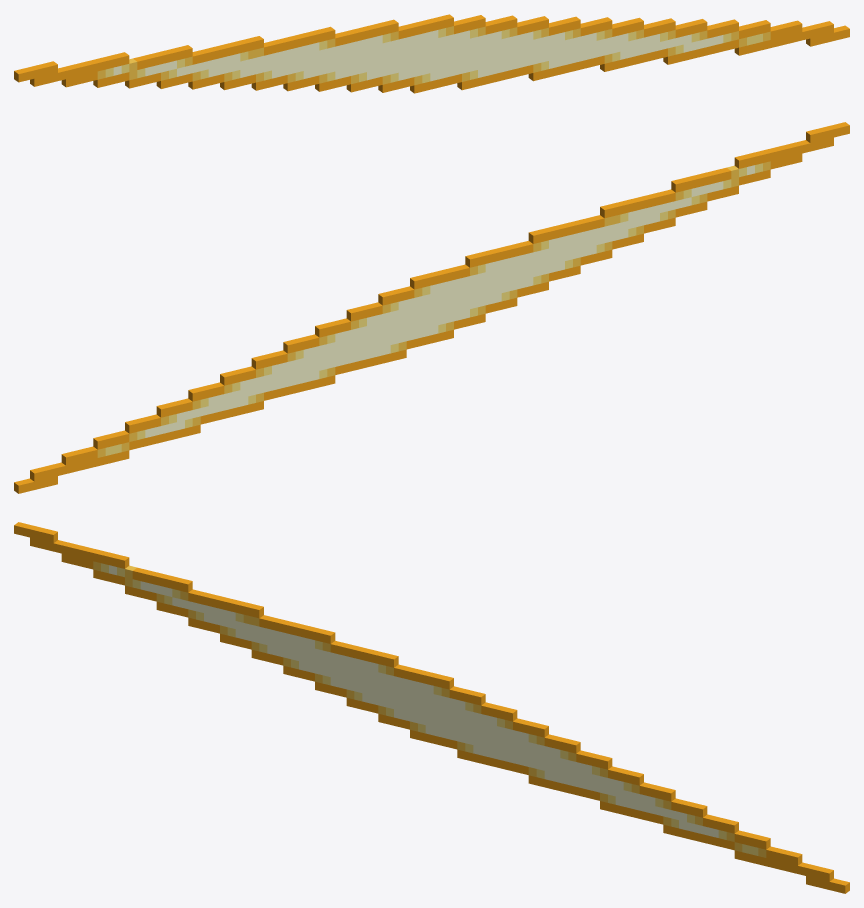
The model's file is Fight_007_2_05_fx.obj.
3 views of the same model, one above another, from view 1: azimuth 30°, elevation 25°; view 2: azimuth 210°, elevation 25°; view 3: azimuth 330°, elevation 25° (orthographic).
Size of the model in its own units: 10.5 by 2 by 0.1.
Materials: 1 (1 with a texture image).
